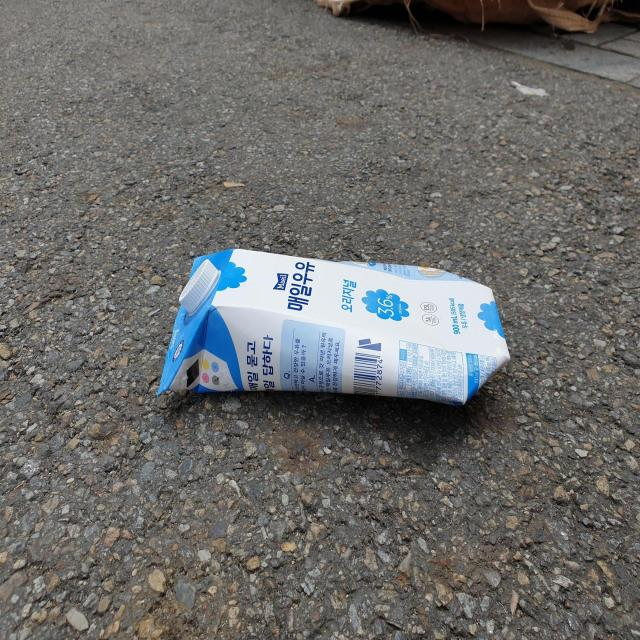paperpack: (158, 248, 510, 405)
